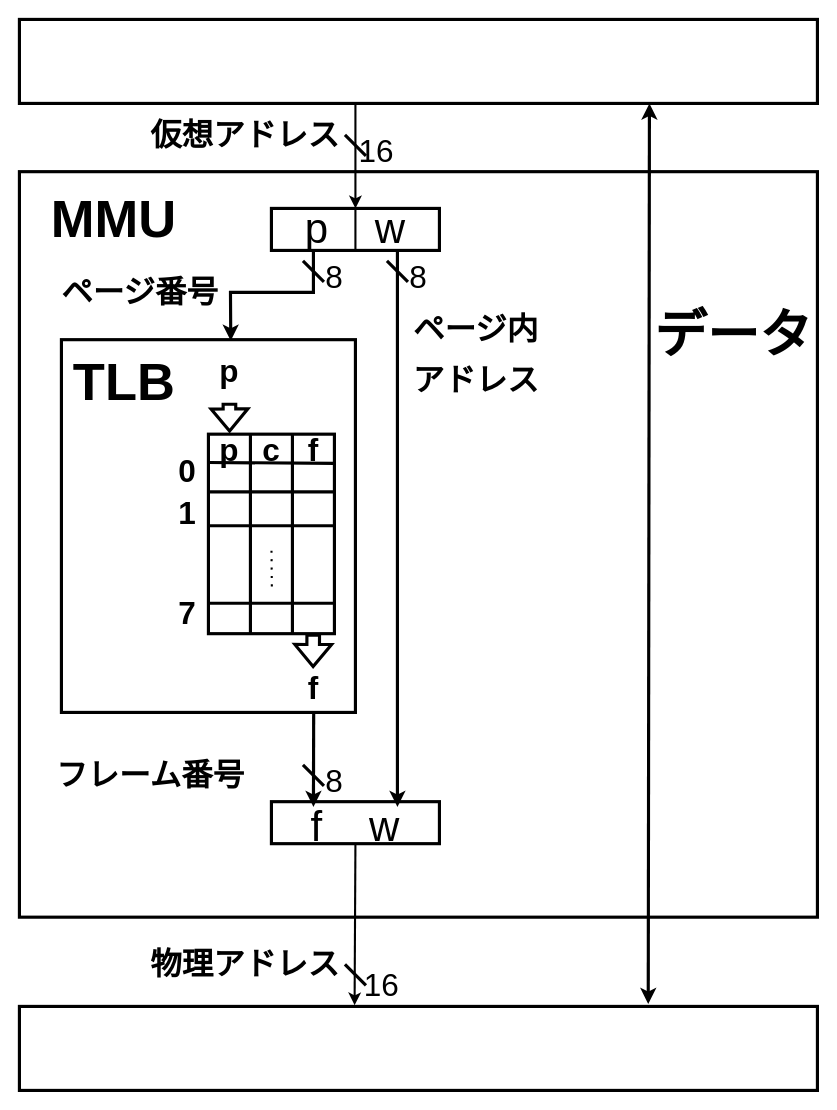
The diagram is 837 pixels wide and 1110 high, and some of its shapes have lost their labels. Here are the shapes that lost their labels. From the top down, the centre of each, then its label:
At point 417,60: "CPU".
At point 417,1047: "メモリ".
